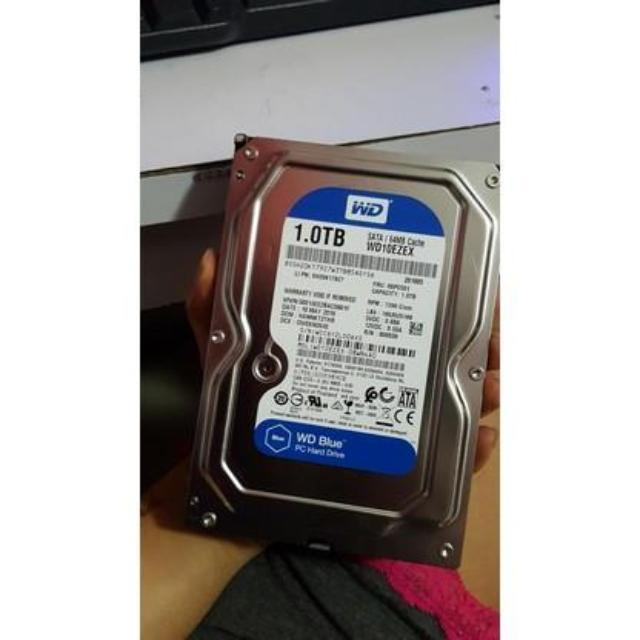DISK: (186, 142, 494, 558)
